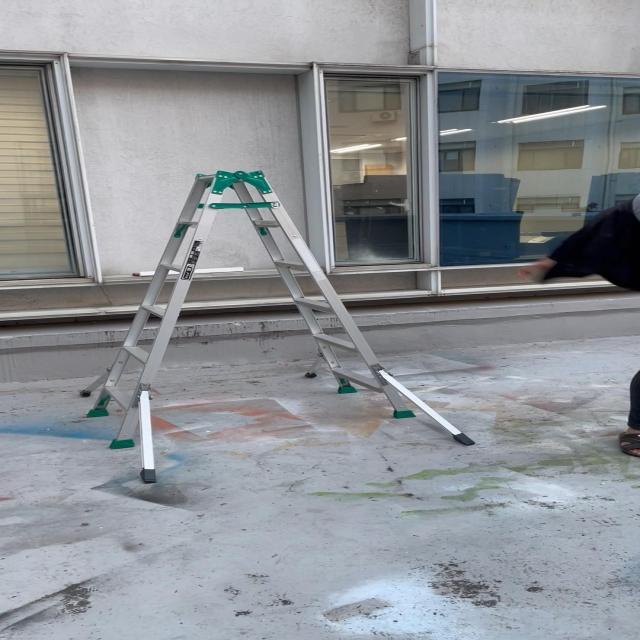boots: (72, 167, 476, 488)
